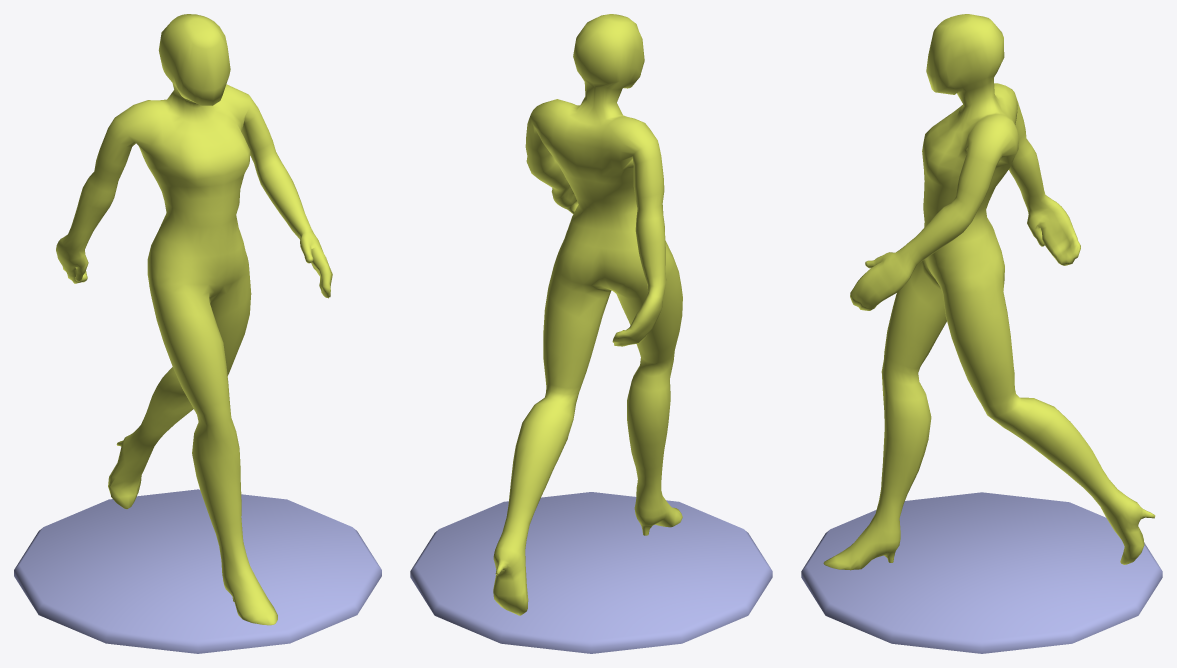
File: mannequin_3.fbx
The picture shows the model from 3 angles, left to right: view 1: azimuth 30°, elevation 25°; view 2: azimuth 150°, elevation 25°; view 3: azimuth 270°, elevation 25°; orthographic projection.
Parts seen in each view (by area): view 1: mannequin_3; view 2: mannequin_3; view 3: mannequin_3.
Part boxes in pixels (left/top/right/bottom): mannequin_3: left=14, top=14, right=381, bottom=653; mannequin_3: left=410, top=14, right=772, bottom=653; mannequin_3: left=801, top=14, right=1162, bottom=653.
Size of the model in its own units: 7.29 by 12.36 by 7.29.
